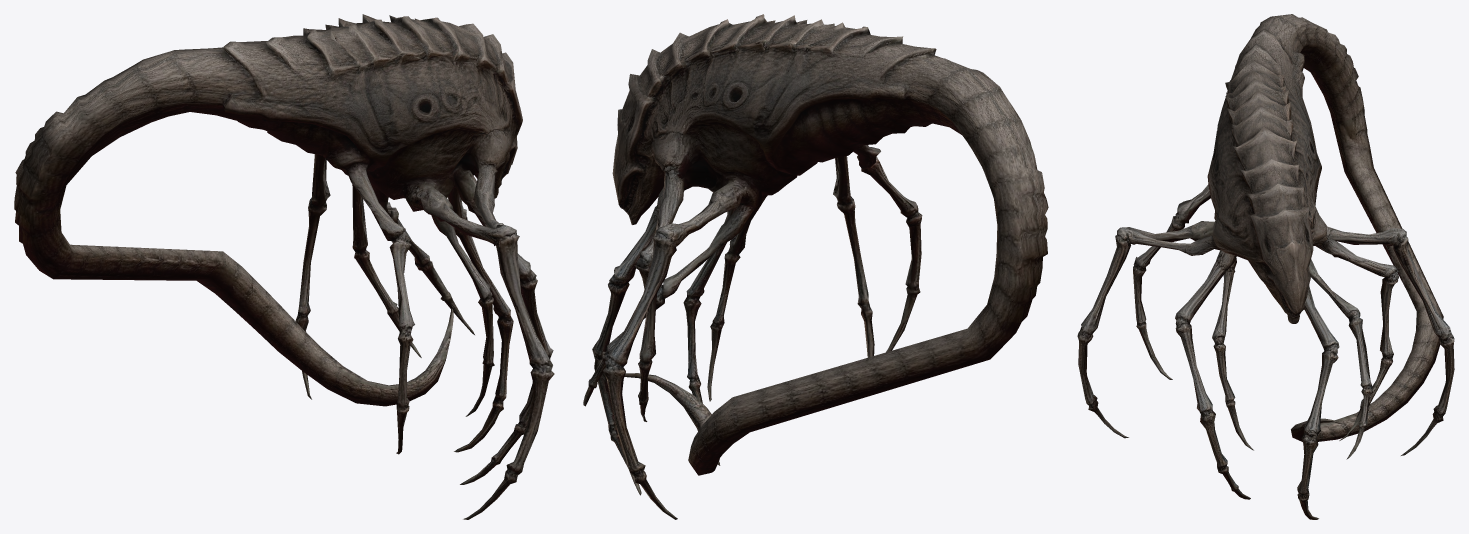
The model's file is alien+creature+3d+model.glb.
3 renders of one model, left to right at view 1: azimuth 30°, elevation 25°; view 2: azimuth 150°, elevation 25°; view 3: azimuth 270°, elevation 25°, orthographic. The views are drawn at different scales.
Parts seen in each view (by area): view 1: tripo_node_3762f955-3c5f-48fe-a313-79b09ed3a740; view 2: tripo_node_3762f955-3c5f-48fe-a313-79b09ed3a740; view 3: tripo_node_3762f955-3c5f-48fe-a313-79b09ed3a740.
Part boxes in pixels (x1,y1,x2,y2): tripo_node_3762f955-3c5f-48fe-a313-79b09ed3a740: (14, 14, 554, 519); tripo_node_3762f955-3c5f-48fe-a313-79b09ed3a740: (583, 14, 1048, 519); tripo_node_3762f955-3c5f-48fe-a313-79b09ed3a740: (1077, 14, 1454, 519).
Bounding box in the file's own units: 0.998 × 0.998 × 0.877.
Materials: 1 (1 with a texture image).
